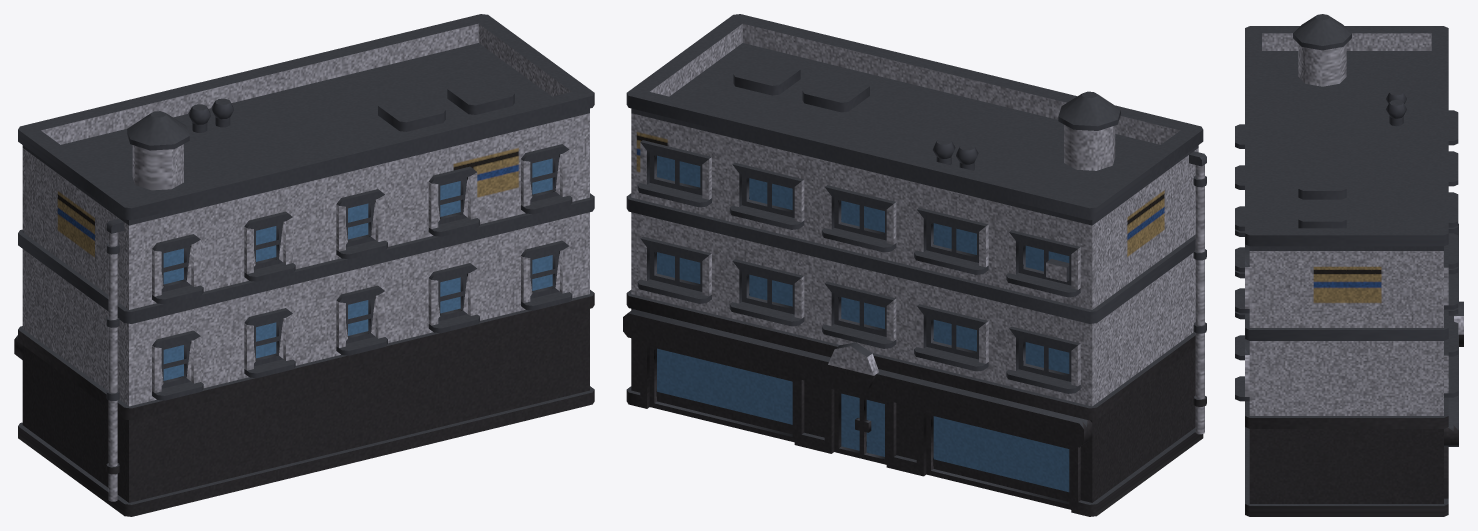
The model's file is building-k-white-scuffed.glb.
3 renders of one model, left to right at view 1: azimuth 30°, elevation 25°; view 2: azimuth 150°, elevation 25°; view 3: azimuth 270°, elevation 25°, orthographic. The views are drawn at different scales.
Parts seen in each view (by area): view 1: building-k-white-scuffed; view 2: building-k-white-scuffed; view 3: building-k-white-scuffed.
Boxes of the visible parts, bbox=[...] form: building-k-white-scuffed: bbox=[14, 14, 594, 516]; building-k-white-scuffed: bbox=[623, 14, 1206, 516]; building-k-white-scuffed: bbox=[1235, 14, 1463, 516].
Bounding box in the file's own units: 2.08 × 1.47 × 0.942.
1 material, 1 textured.
